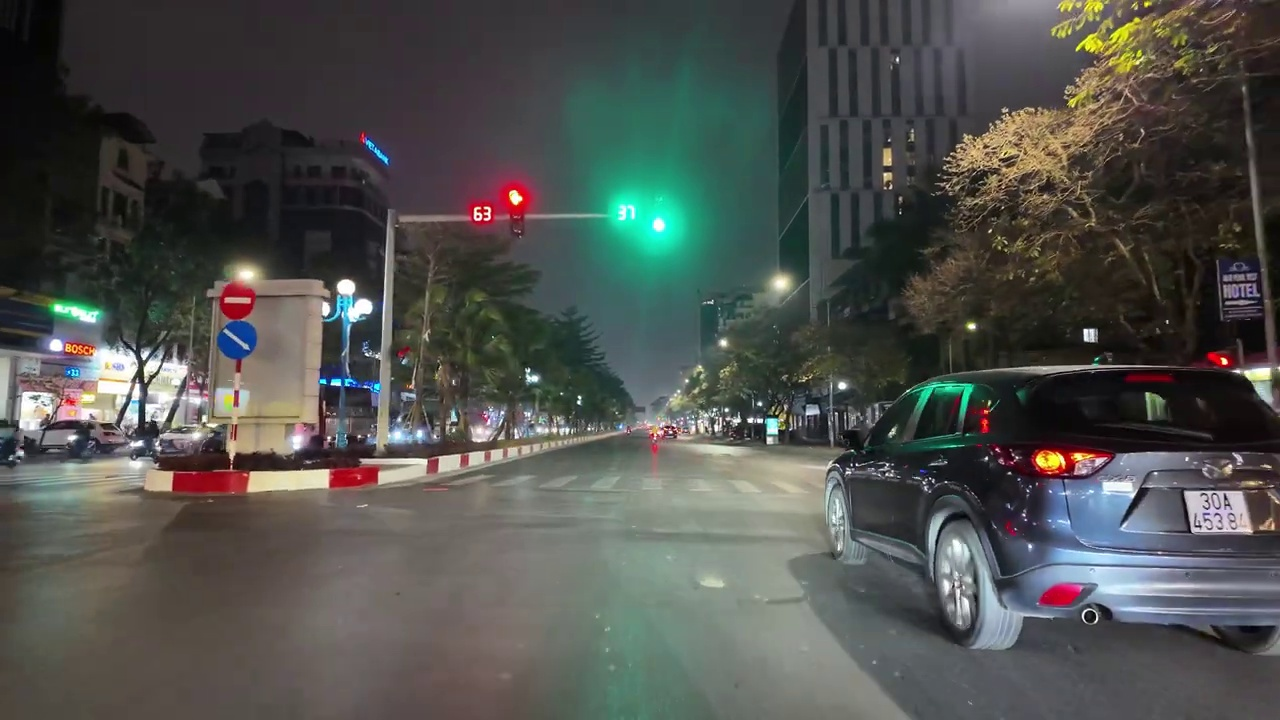acesa: (765, 270, 796, 298), (230, 262, 262, 286)
